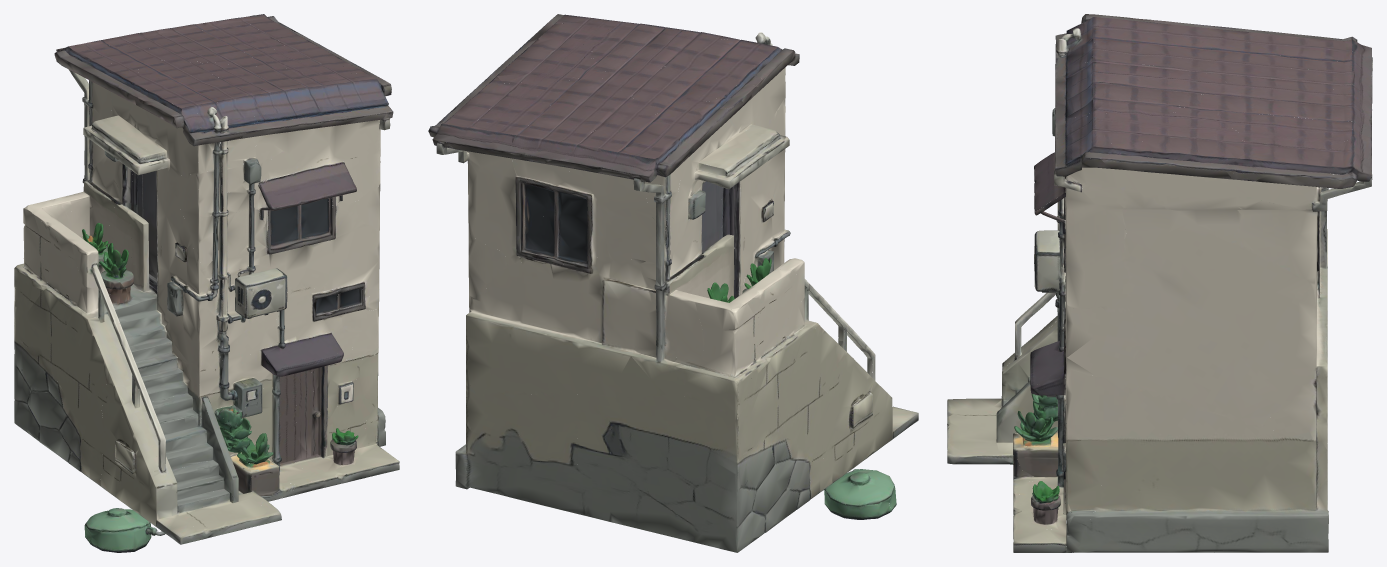
Rendered from building9.glb.
3 views of the same model, side by side, from view 1: azimuth 30°, elevation 25°; view 2: azimuth 150°, elevation 25°; view 3: azimuth 270°, elevation 25° (orthographic). The views are drawn at different scales.
Visible parts, largest first — view 1: tripo_node_45603422-efe1-4db4-b692-1e0aebc67398; view 2: tripo_node_45603422-efe1-4db4-b692-1e0aebc67398; view 3: tripo_node_45603422-efe1-4db4-b692-1e0aebc67398.
Boxes of the visible parts, x1,y1,x2,y2 form: tripo_node_45603422-efe1-4db4-b692-1e0aebc67398: [14, 14, 399, 552]; tripo_node_45603422-efe1-4db4-b692-1e0aebc67398: [428, 14, 918, 552]; tripo_node_45603422-efe1-4db4-b692-1e0aebc67398: [947, 14, 1372, 552].
Size of the model in its own units: 0.7739 by 1 by 0.8201.
1 material, 1 textured.
